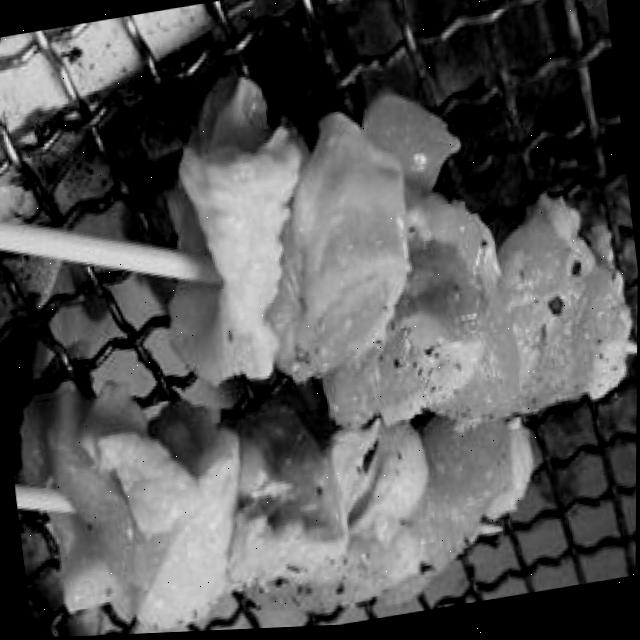烧串烤肉: (0, 7, 640, 640)
